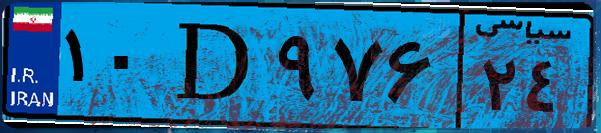0: (110, 28, 158, 98)
1: (57, 26, 110, 100)
2: (475, 38, 525, 113)
4: (525, 38, 570, 115)
6: (385, 28, 445, 110)
7: (330, 28, 385, 110)
9: (270, 28, 330, 110)
D: (158, 12, 270, 120)
